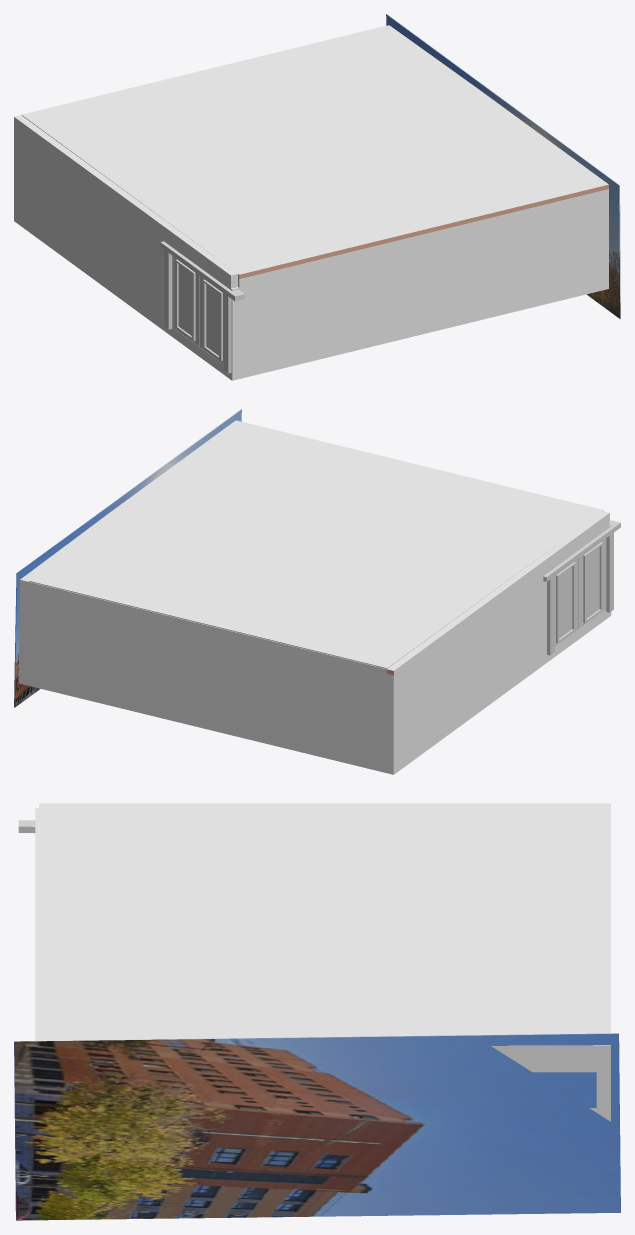
Rendered from museo_Mostoles.glb.
The picture shows the model from 3 angles, top to bottom: view 1: azimuth 30°, elevation 25°; view 2: azimuth 150°, elevation 25°; view 3: azimuth 270°, elevation 25°; orthographic projection. The views are drawn at different scales.
Visible parts, largest first — view 1: Cube.006, Cube, Cube.002, Cube.001, Cube.005, Cube.003, Cube.004; view 2: Cube.006, Cube, Cube.001, Cube.002, Cube.005, Cube.004, Cube.003; view 3: Cube.006, Cube.
Boxes of the visible parts, box(x1,y1,x2,y2) form: Cube.006: box(14, 25, 608, 380); Cube: box(386, 14, 620, 319); Cube.002: box(174, 257, 199, 346); Cube.001: box(200, 276, 223, 364); Cube.005: box(160, 241, 244, 301); Cube.003: box(223, 292, 231, 373); Cube.004: box(164, 249, 172, 329); Cube.006: box(18, 420, 611, 774); Cube: box(14, 409, 241, 707); Cube.001: box(578, 539, 604, 629); Cube.002: box(555, 559, 578, 646); Cube.005: box(543, 520, 620, 581); Cube.004: box(547, 573, 554, 655); Cube.003: box(606, 533, 613, 612); Cube.006: box(35, 803, 610, 1121); Cube: box(14, 1033, 620, 1220).
Size of the model in its own units: 660 by 228 by 684.
7 materials, 2 textured.
